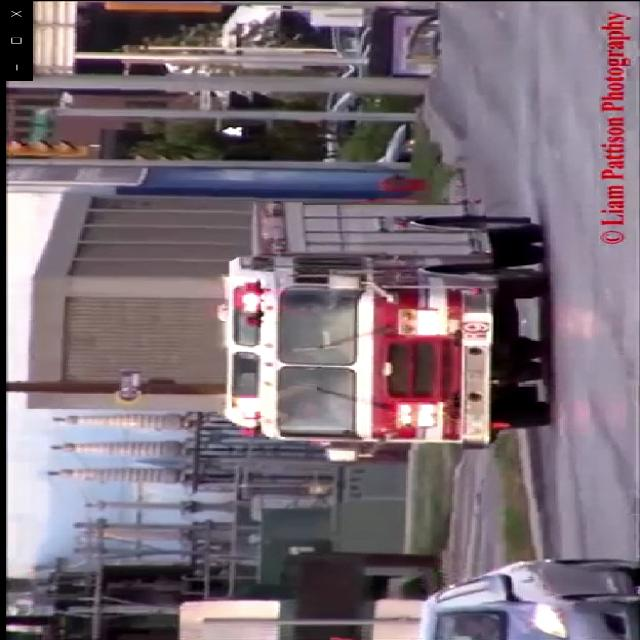emergency: (204, 196, 560, 464)
